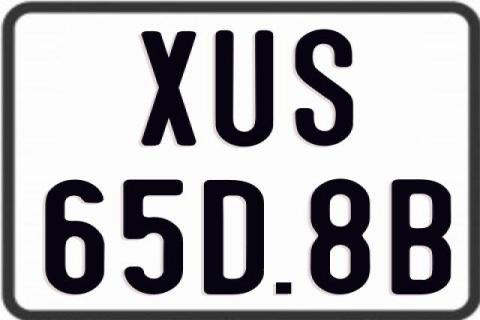0: (120, 177, 183, 293), (309, 177, 372, 293), (42, 179, 106, 293)
B: (389, 177, 450, 293)
D: (204, 178, 269, 296)
S: (293, 29, 354, 148)
U: (213, 29, 273, 149)
X: (140, 30, 201, 148)
